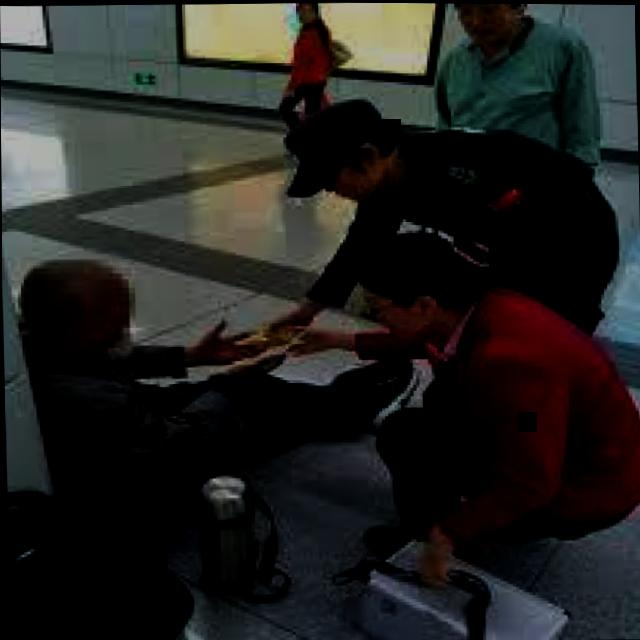Fall-Detected: (19, 230, 447, 522)
